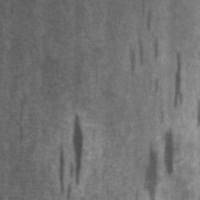inclusion: (128, 2, 161, 94), (54, 112, 87, 199), (160, 124, 183, 182), (141, 136, 161, 199), (168, 48, 187, 110)
